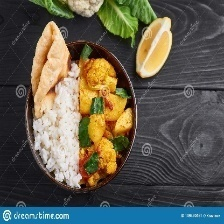roti: (26, 19, 73, 118)
